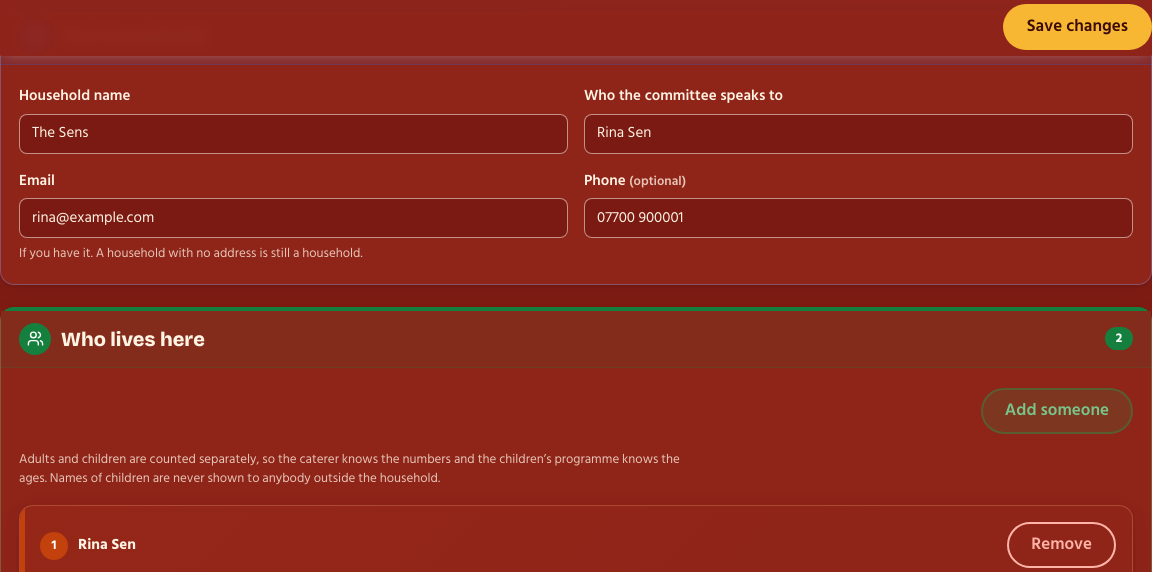
Test: the people in it › adds and removes somebody
Click the button "Add someone" at (1057, 410), box 981,388 -> 1133,434
(page scrolled)
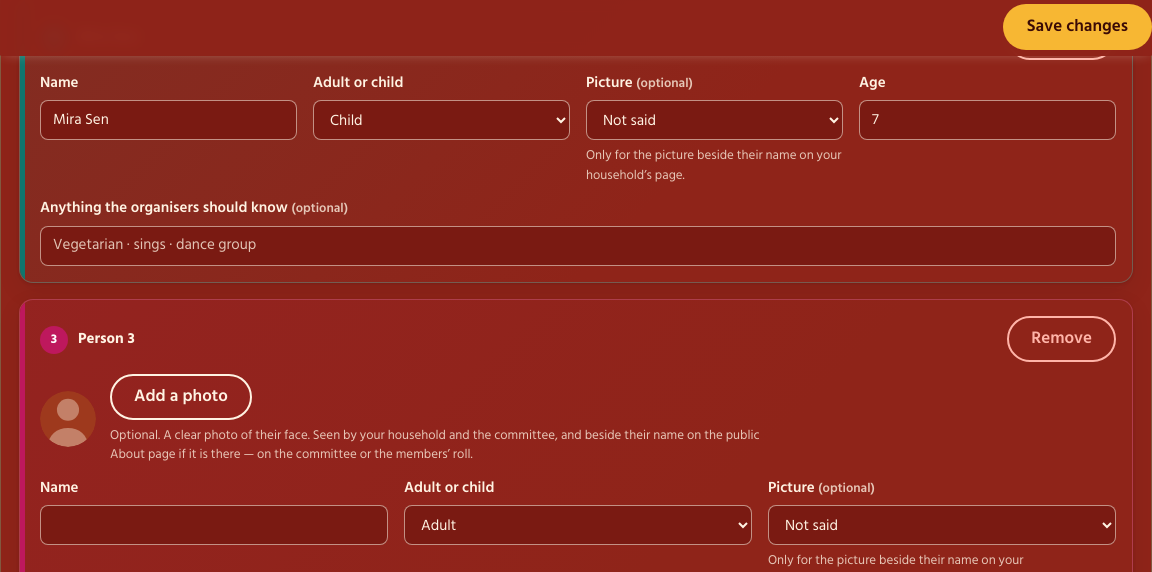
expect the number of fields labelled "Name" is 3: met
Click the button with aria-label "Remove person" at (1062, 338), box 1007,316 -> 1116,362
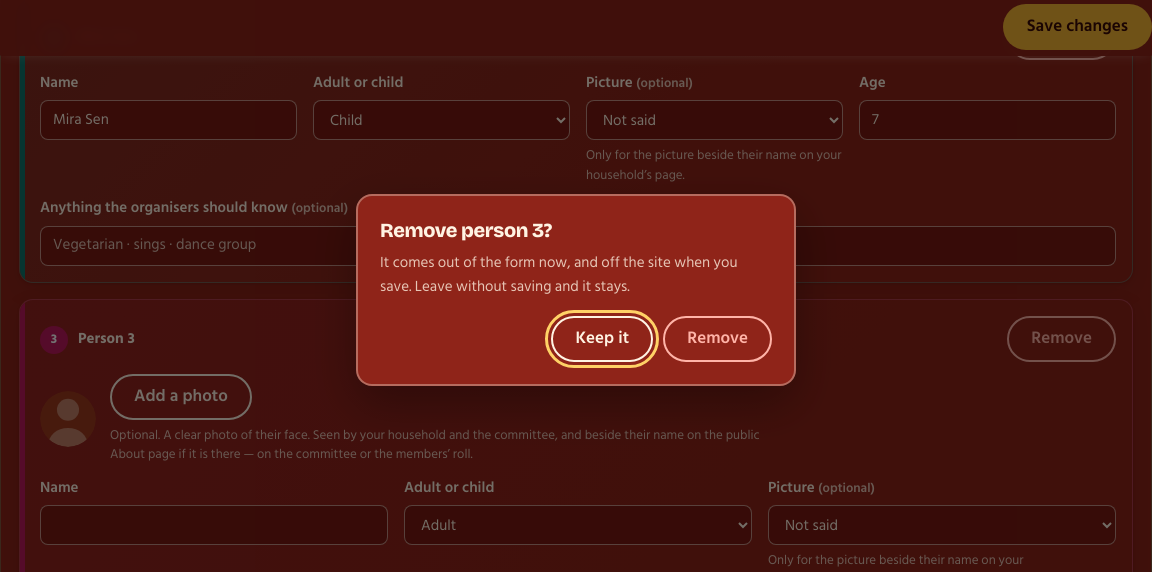
Click the button "Remove" at (718, 339), box 663,316 -> 772,362
(page scrolled)
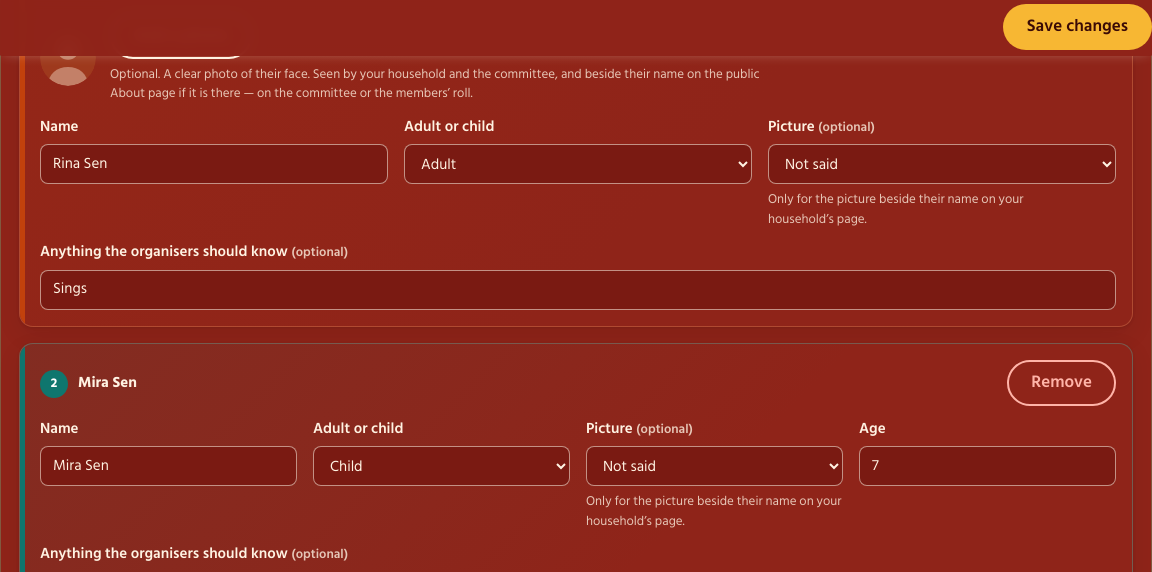
expect the number of fields labelled "Name" is 2: met, box 40,144 -> 388,184; 40,446 -> 297,486
